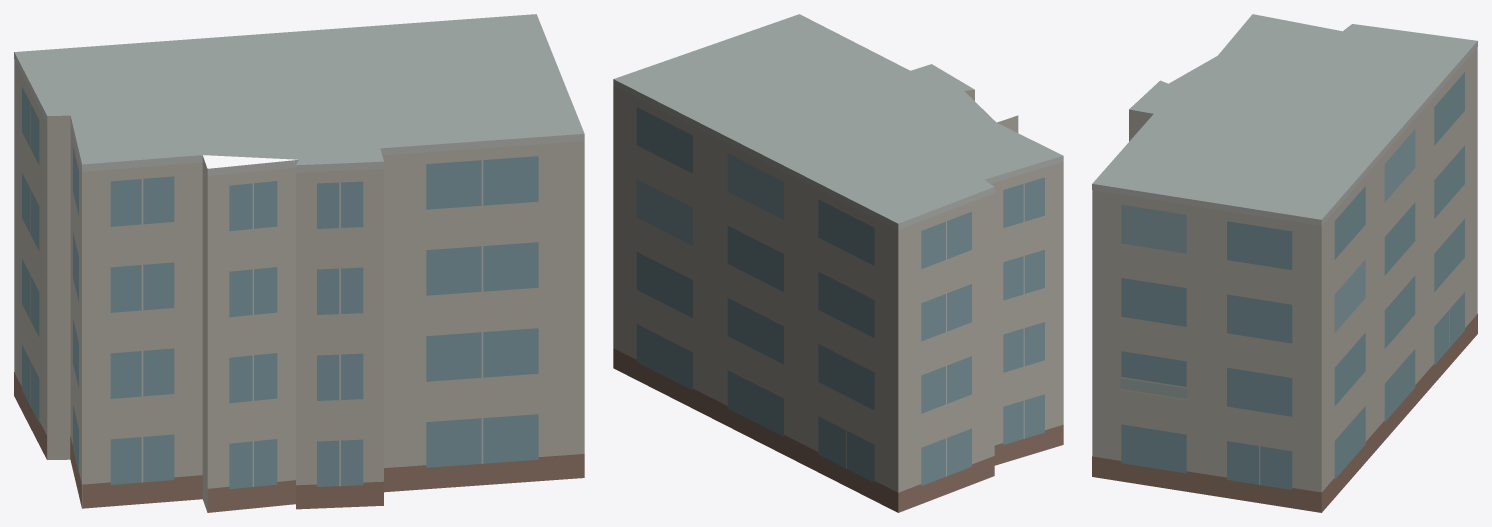
File: survey-upis-32874200.glb
The picture shows the model from 3 angles, left to right: view 1: azimuth 30°, elevation 25°; view 2: azimuth 150°, elevation 25°; view 3: azimuth 270°, elevation 25°; orthographic projection. The views are drawn at different scales.
Parts seen in each view (by area): view 1: survey-upis-32874200.tmp; view 2: survey-upis-32874200.tmp; view 3: survey-upis-32874200.tmp.
Part boxes in pixels (x1,y1,x2,y2): survey-upis-32874200.tmp: [14, 14, 584, 512]; survey-upis-32874200.tmp: [613, 14, 1063, 512]; survey-upis-32874200.tmp: [1092, 14, 1477, 512].
Size of the model in its own units: 17.33 by 11.5 by 13.73.
